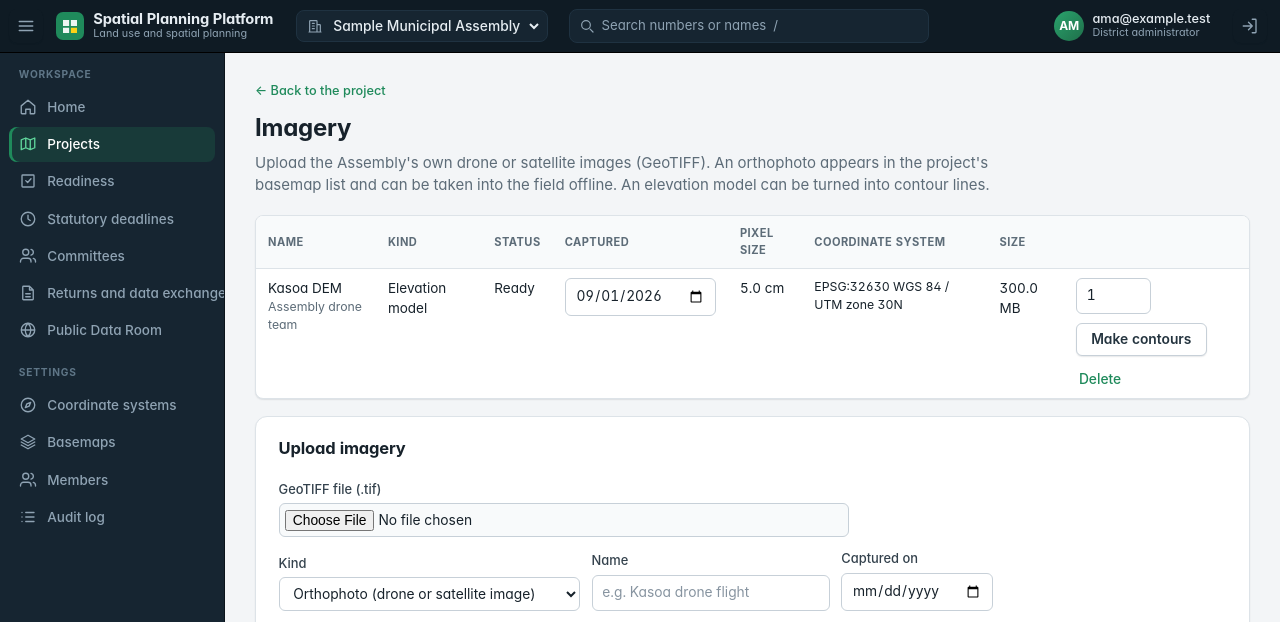
Test: imagery page › makes contours from an elevation model
Replace the text in the number field named "Contour interval for Kasoa DEM" with "2" at [1113, 296], box [1076,278,1151,314]
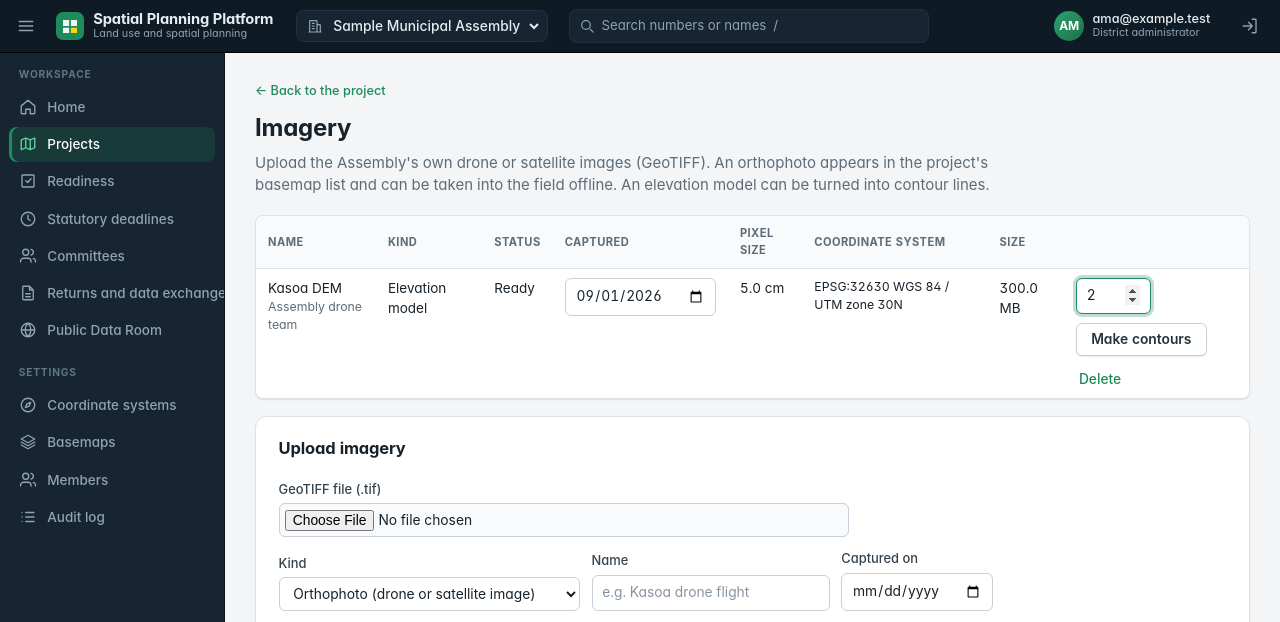
Click the button "Make contours".
click(1141, 339)  # box [1076,323,1207,356]
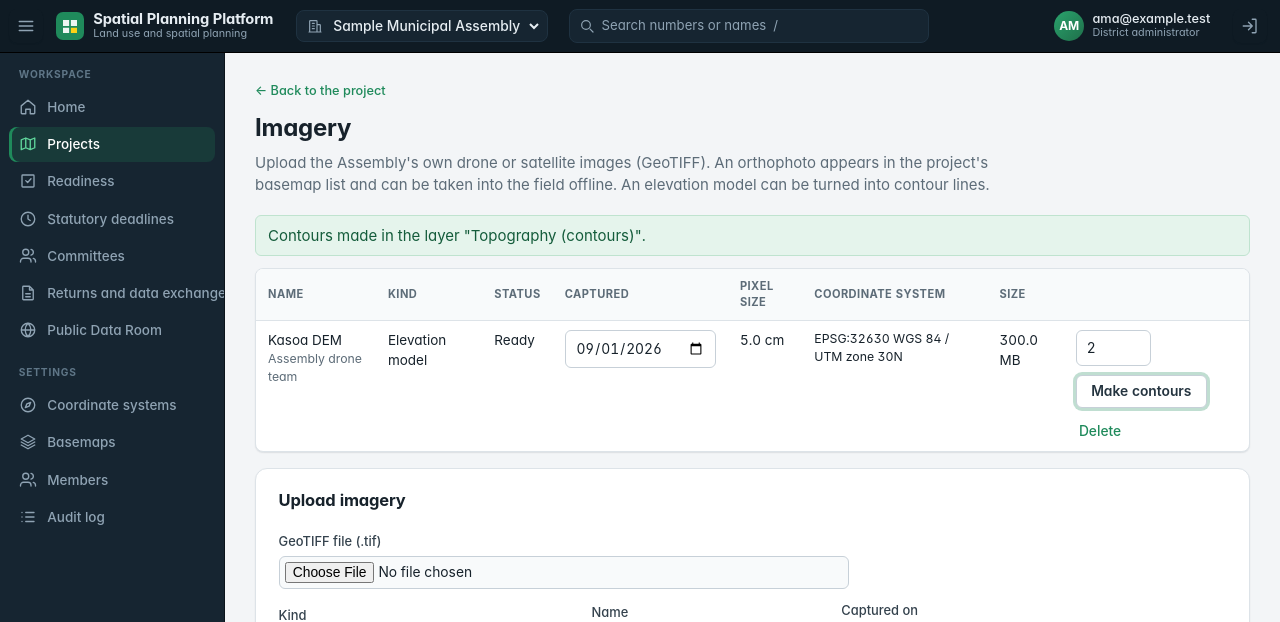
Expected: the message reads "Contours made in the layer \"Topography (contours)\".", [268,226,646,244]
